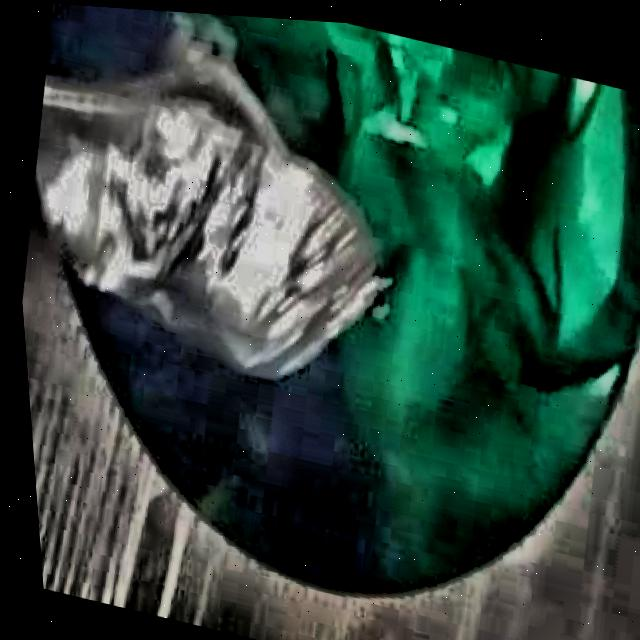metal: (30, 44, 380, 374)
